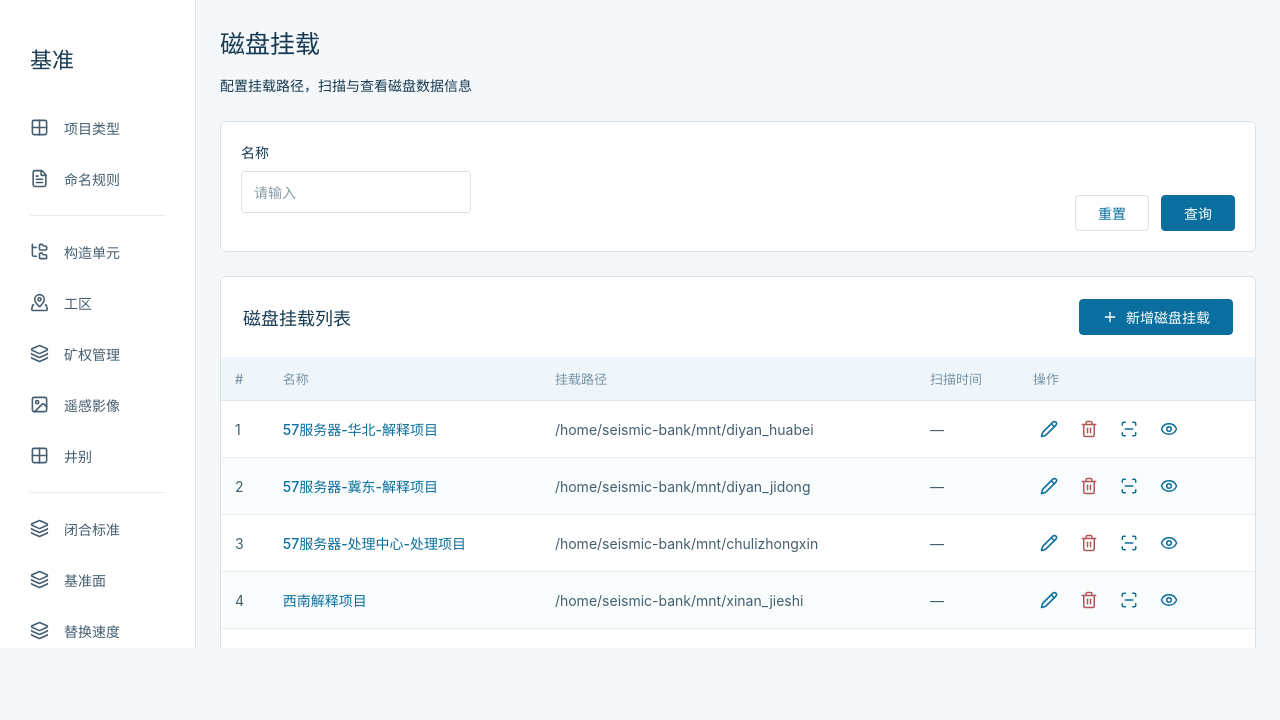
Scenario: 基准页面字段与有效流程 › 树查询保留上级路径，磁盘扫描更新本地时间
Click the button named "扫描57服务器-华北-解释项目": x=1129, y=429 [1113,413,1145,445]
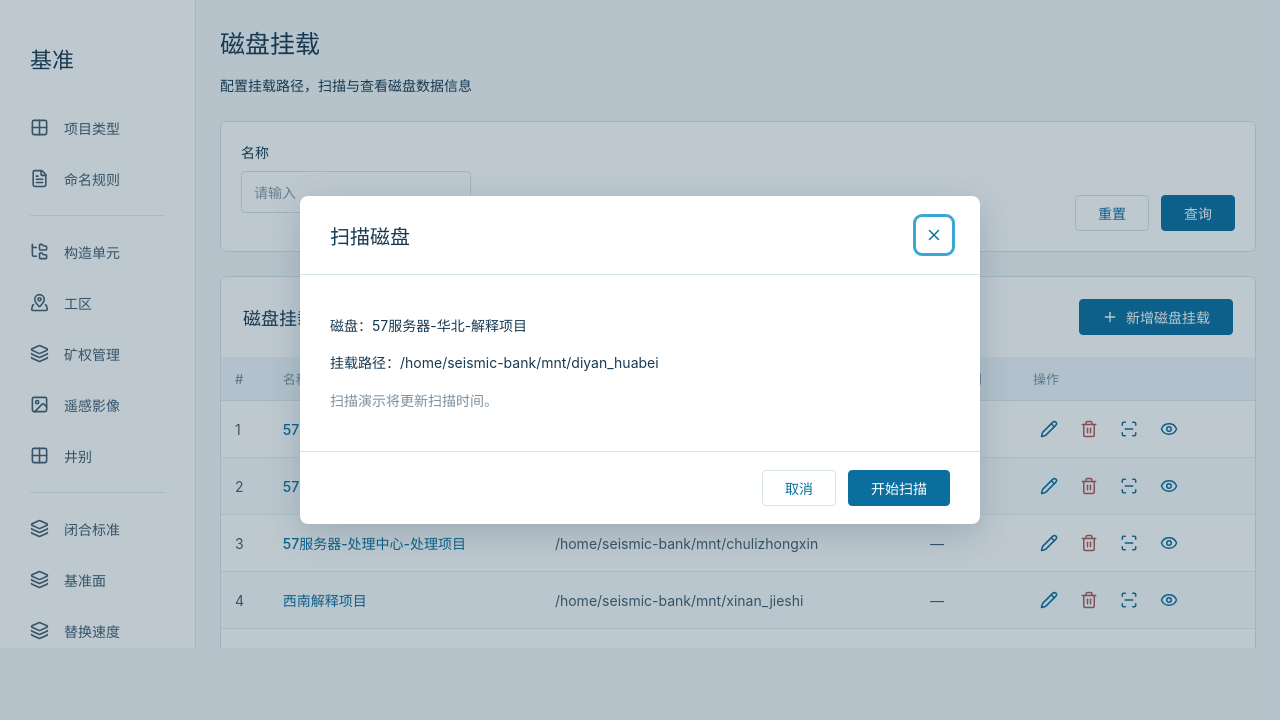
Click the button "开始扫描": x=899, y=488 [848,470,950,506]
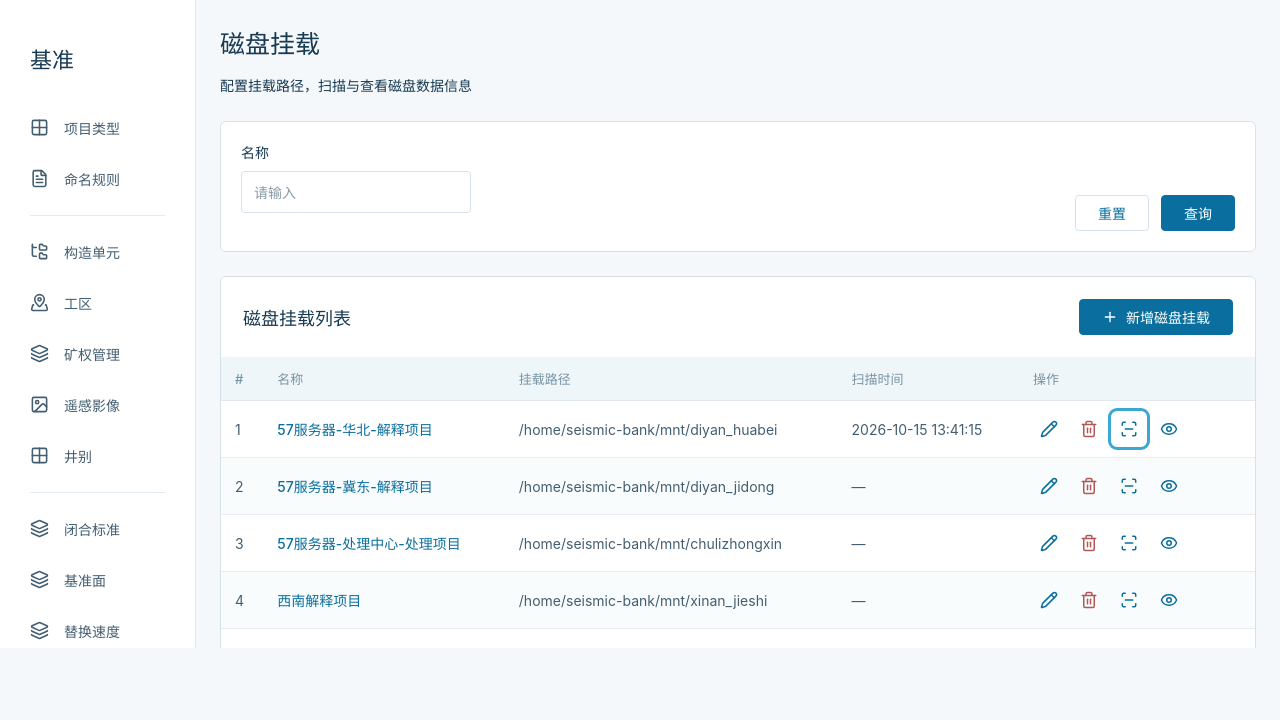
Expected: the dialog is gone
